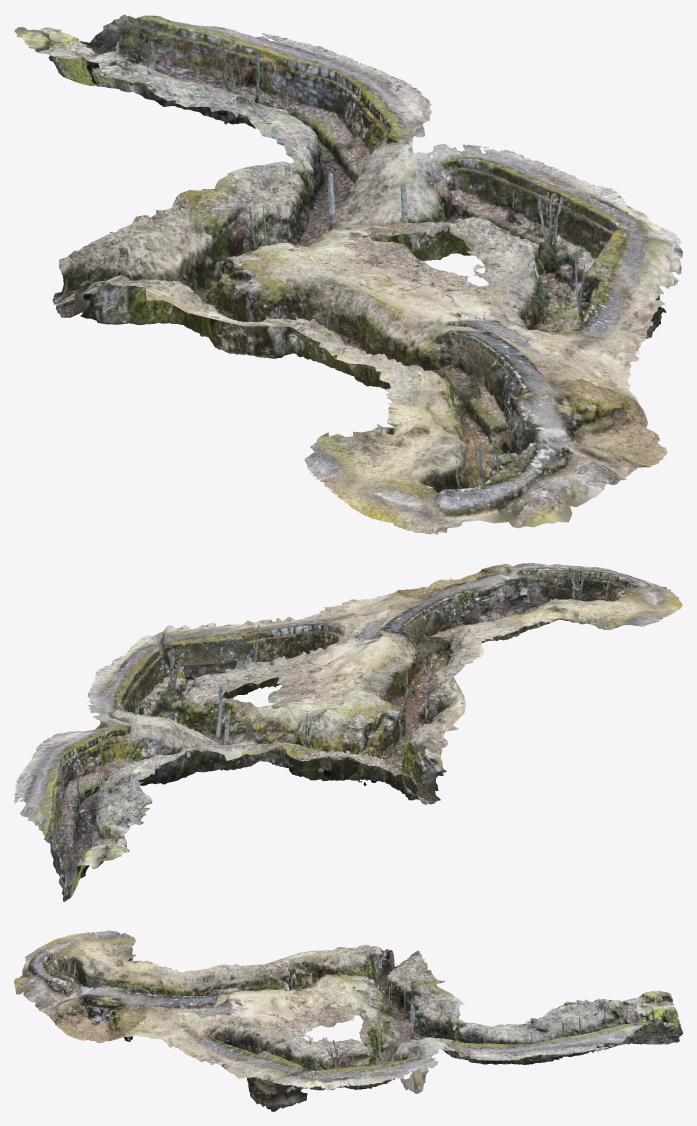
Rendered from trench.glb.
The picture shows the model from 3 angles, top to bottom: view 1: azimuth 30°, elevation 25°; view 2: azimuth 150°, elevation 25°; view 3: azimuth 270°, elevation 25°; orthographic projection. The views are drawn at different scales.
Size of the model in its own units: 73.21 by 14.01 by 145.
1 material, 1 textured.
